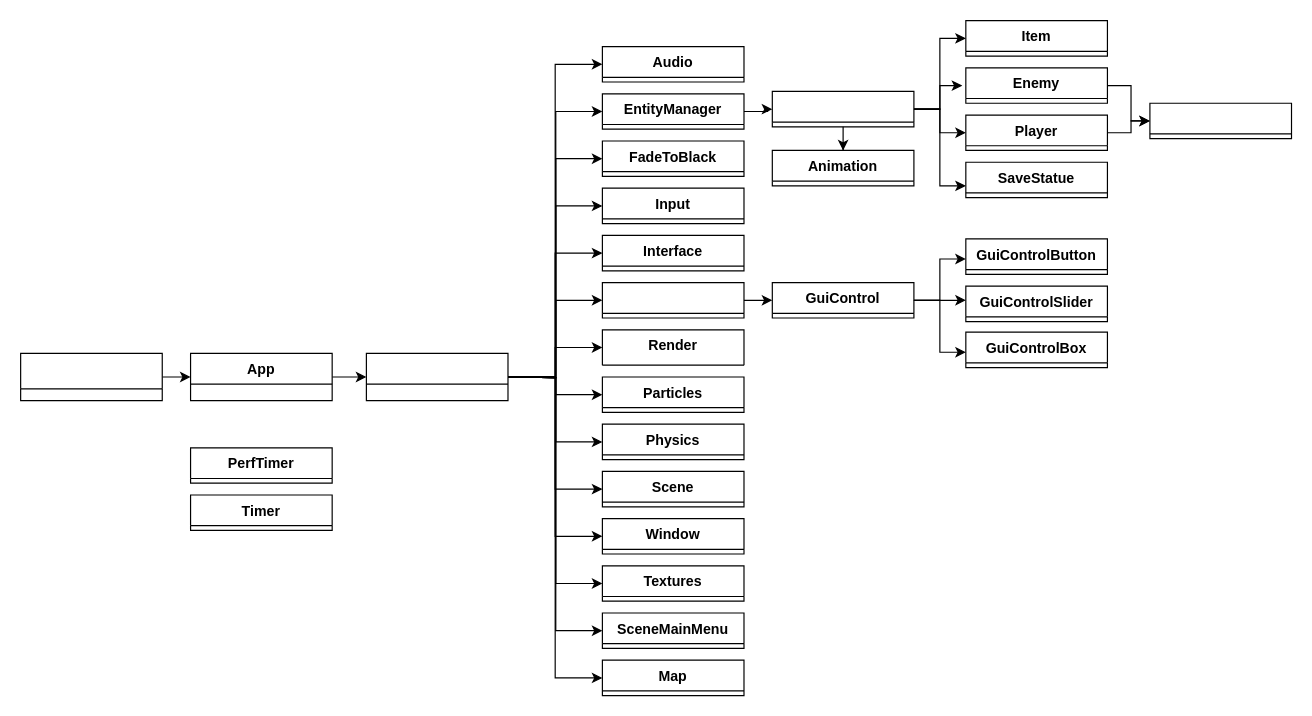
This 1312x716 diagram has some shape labels left out. The shapes that lost their labels are listed below. From the top down, each one's box as (x1, y1, x2, y2) in pixels, then its label:
(771, 90, 914, 127): Entity
(1149, 102, 1292, 139): PathFinding
(601, 281, 744, 318): GuiManager
(19, 352, 162, 401): Main
(365, 352, 508, 401): Module
